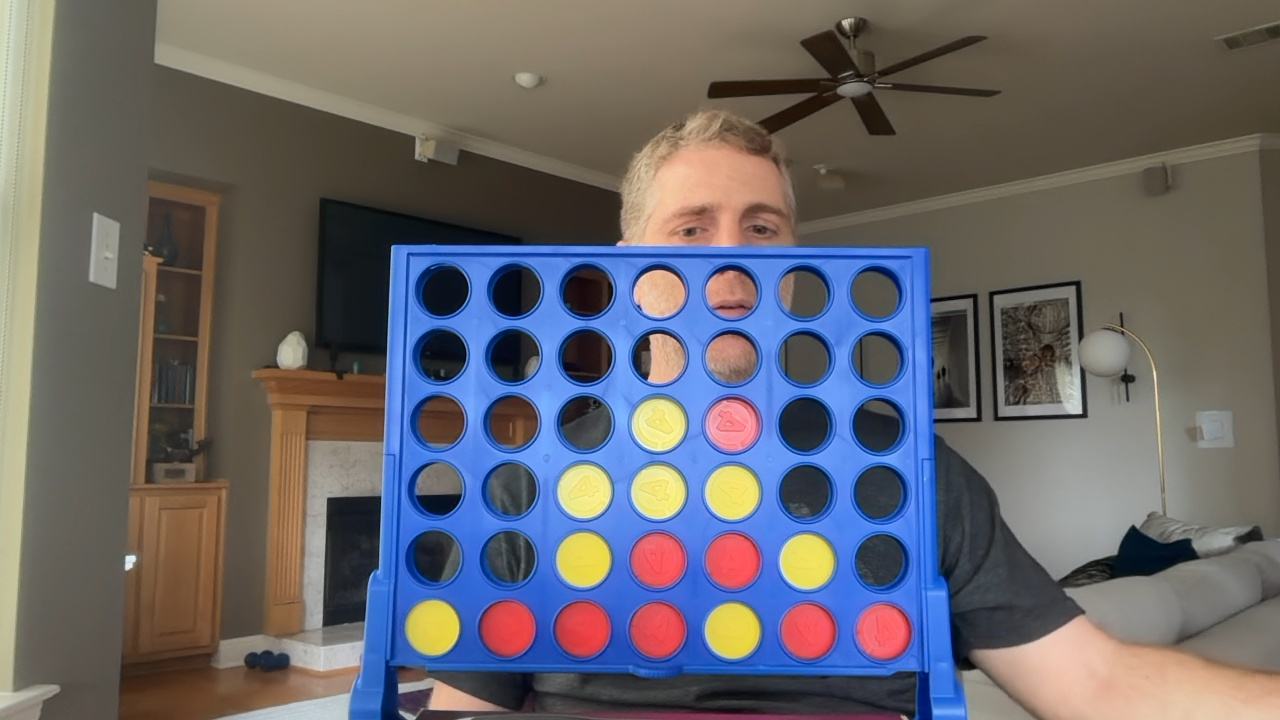red piece: (629, 602, 686, 659), (553, 601, 610, 658), (780, 602, 836, 660), (479, 600, 535, 657), (630, 532, 686, 589), (705, 532, 760, 589), (856, 603, 911, 660), (705, 397, 760, 451)
yellow piece: (704, 602, 761, 660), (704, 464, 761, 521), (555, 531, 611, 588), (630, 463, 686, 520), (557, 462, 612, 519), (405, 599, 460, 656), (780, 533, 835, 590), (631, 397, 687, 451)
